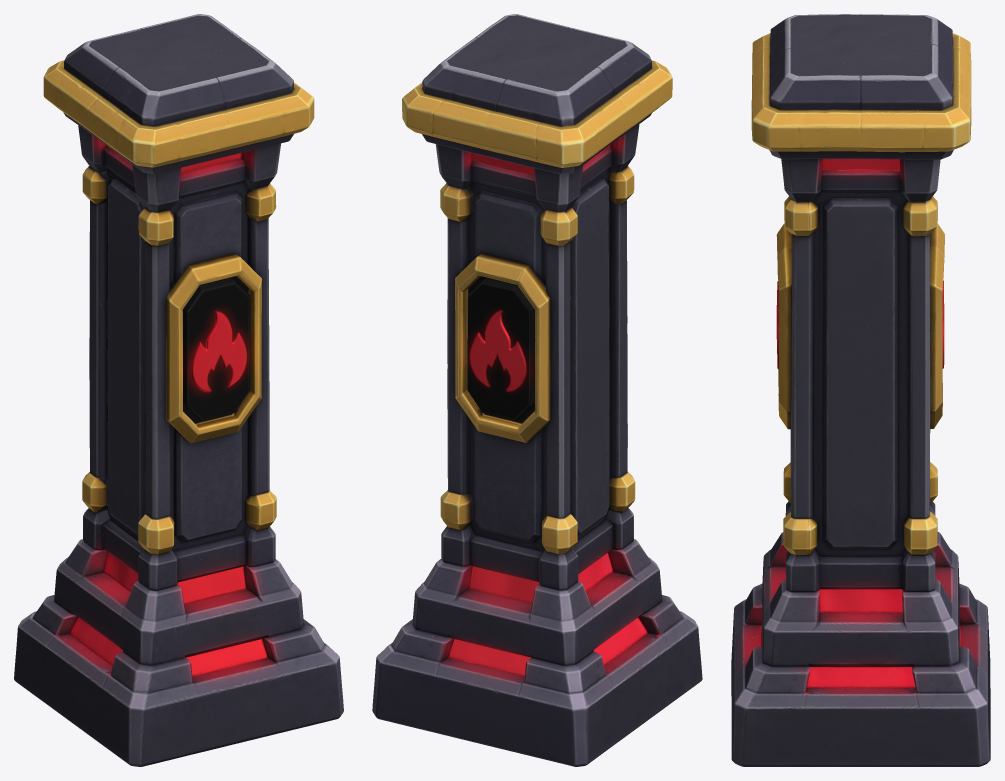
The model's file is lava.glb.
3 views of the same model, side by side, from view 1: azimuth 30°, elevation 25°; view 2: azimuth 150°, elevation 25°; view 3: azimuth 270°, elevation 25° (orthographic). The views are drawn at different scales.
Bounding box in the file's own units: 0.6656 × 1.9 × 0.6665.
Materials: 1 (1 with a texture image).
